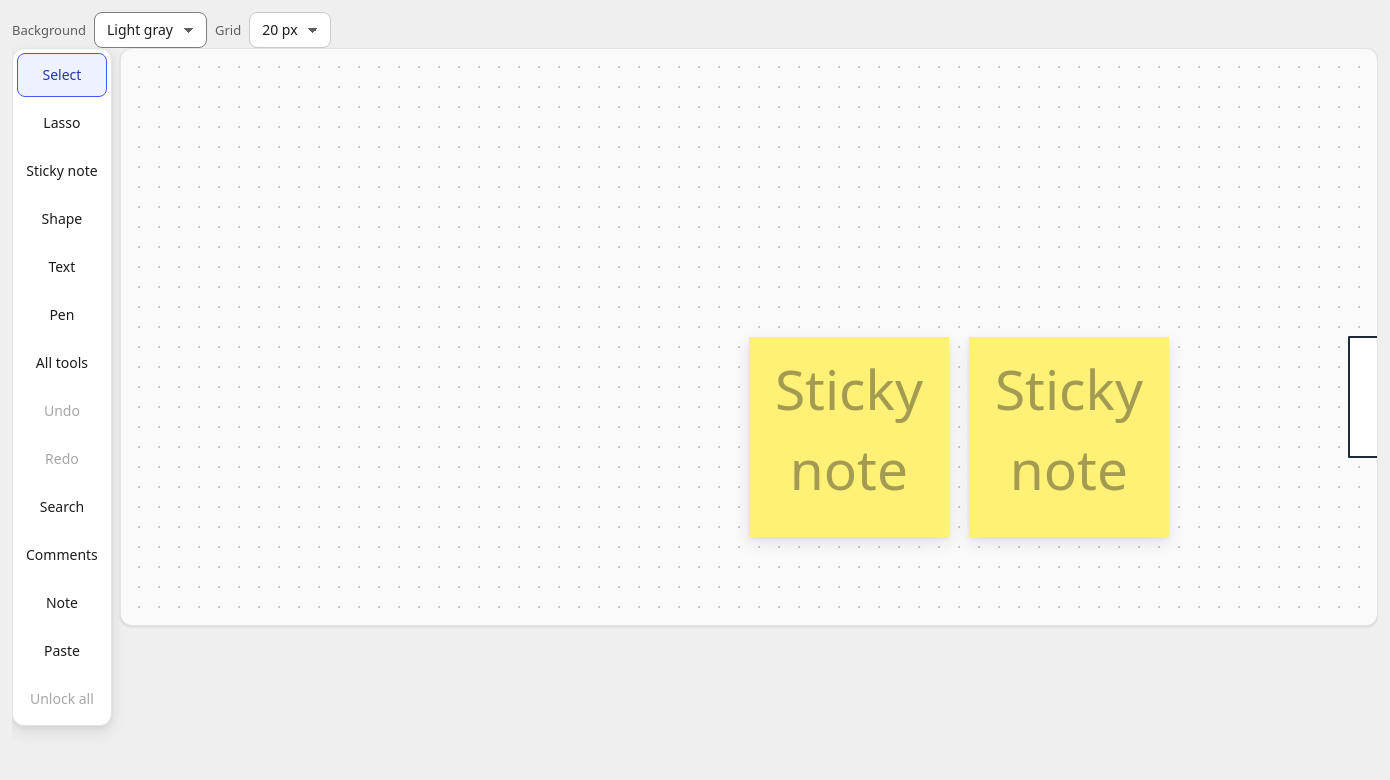
Test: CVS-23: контекстное меню › меню объекта выделяет его и удаляет
Step 1. Right-click the 2nd element showing "Sticky note" → (1069, 437), box [969,337,1169,537]
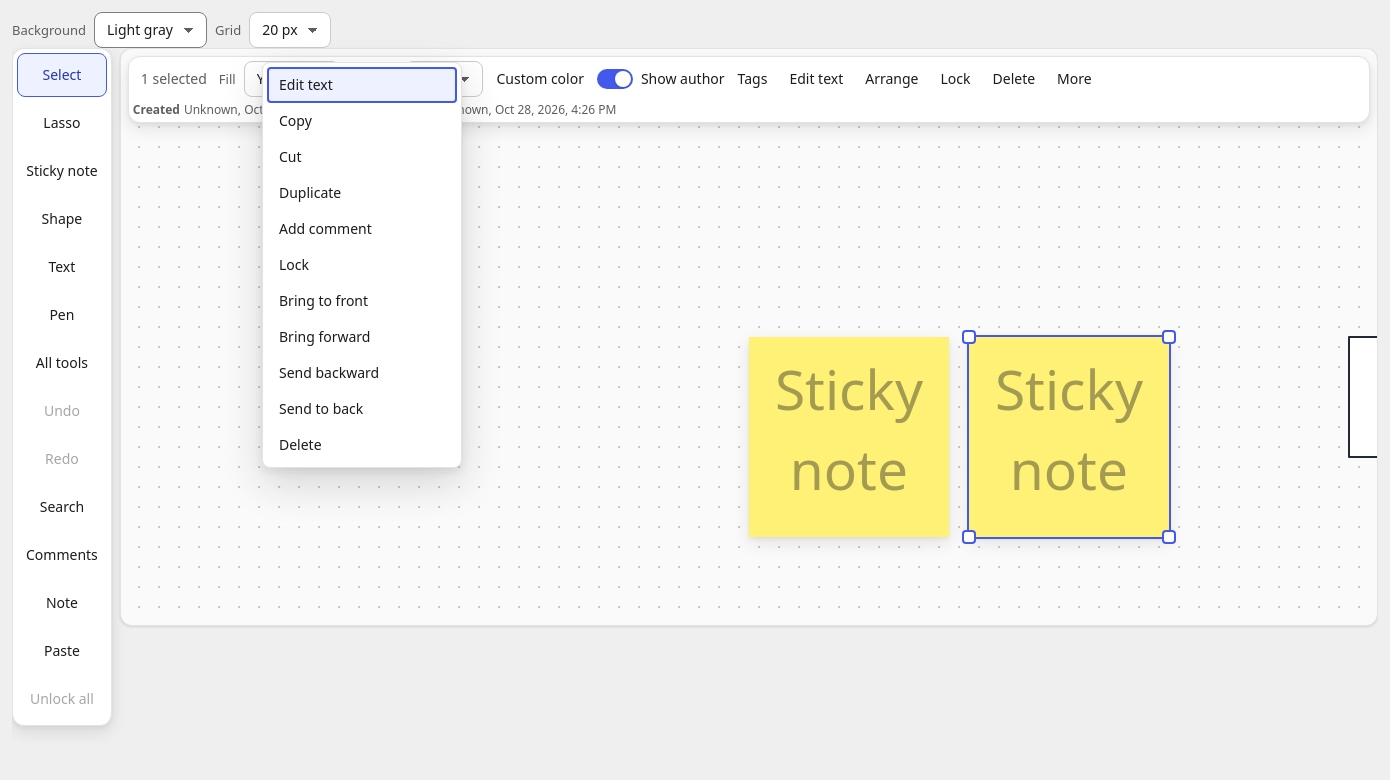
Result: the menu item "Edit text" is shown at [267,67,457,103]
Step 2. Click the menu item "Delete" → click(362, 445), box [267,427,457,463]
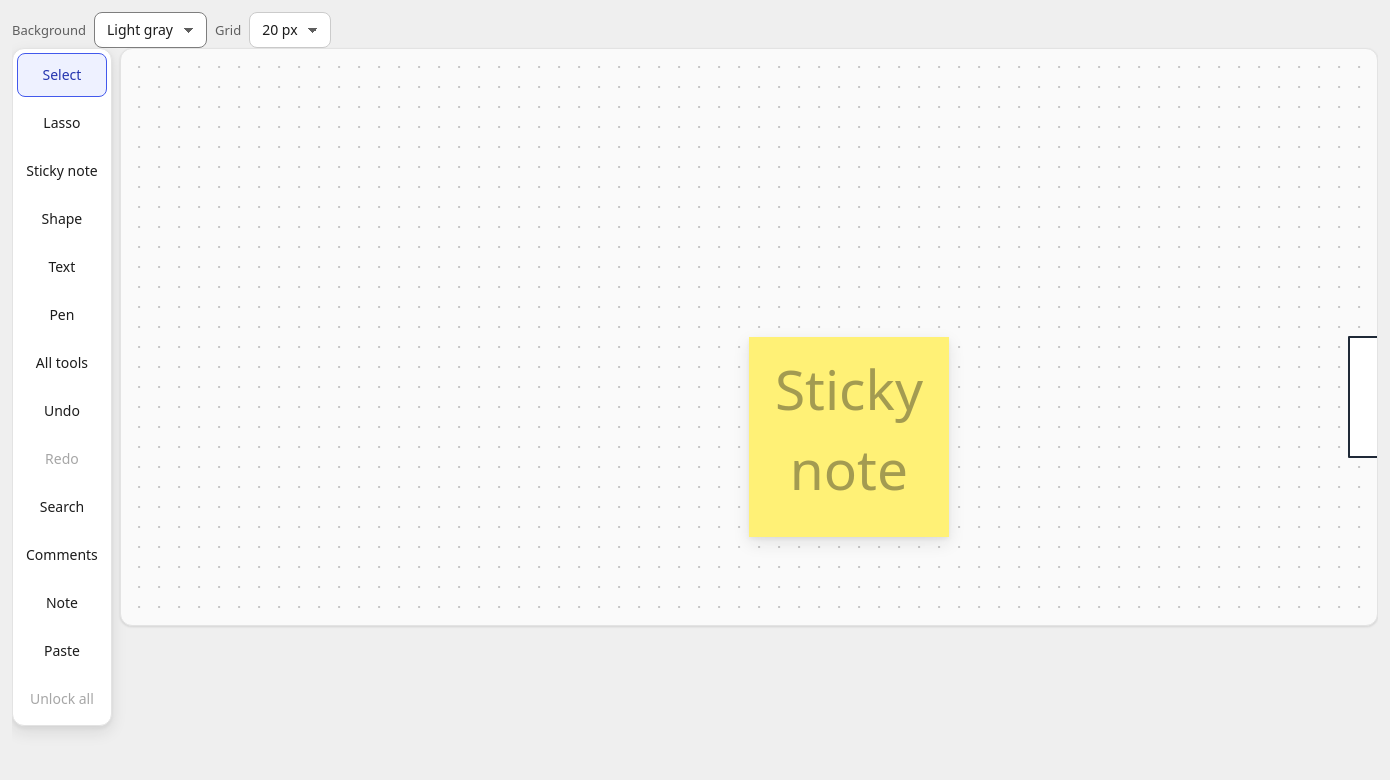
Result: the menu is gone
